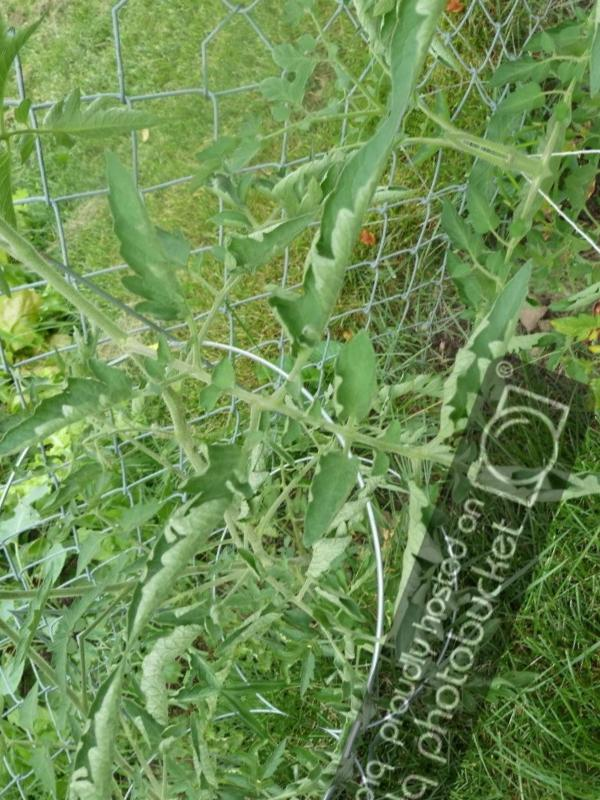Tomato mold leaf: (254, 106, 412, 362), (121, 412, 262, 654), (54, 143, 229, 329), (312, 319, 409, 440), (287, 442, 371, 559)
